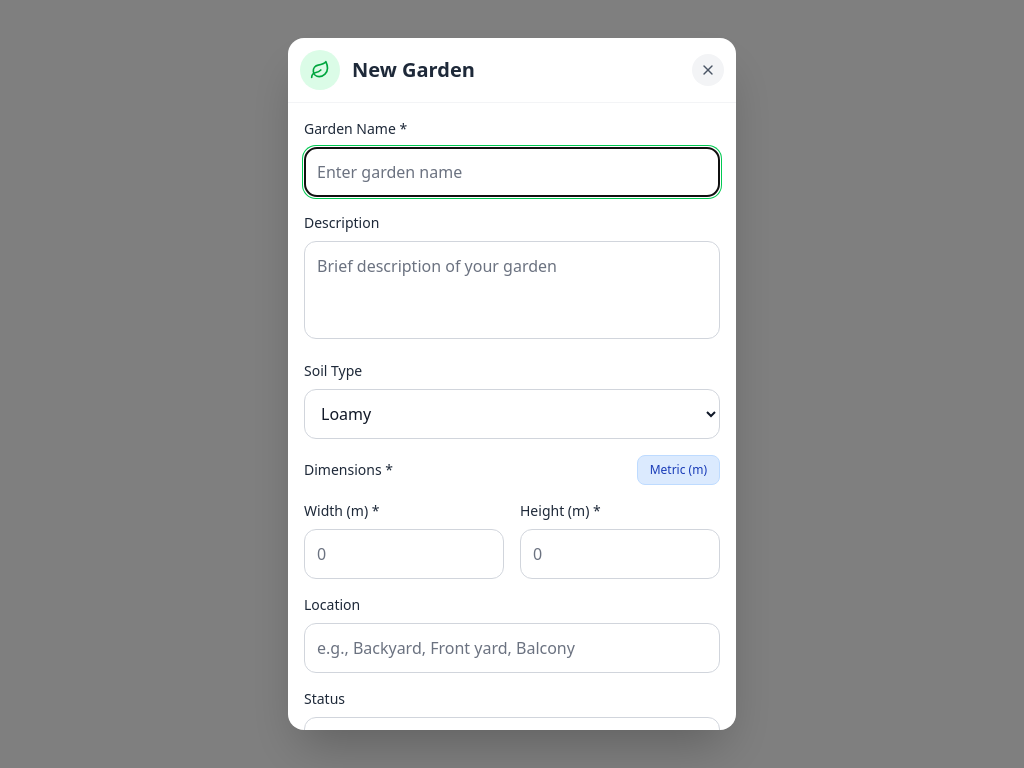
Test: GardenForm validation › shows metric range messages using m for dimensions above the allowed range
The image size is (1024, 768).
Type "Kitchen Garden" into the field with placeholder "Enter garden name" at (512, 172), box [304,147,720,197]
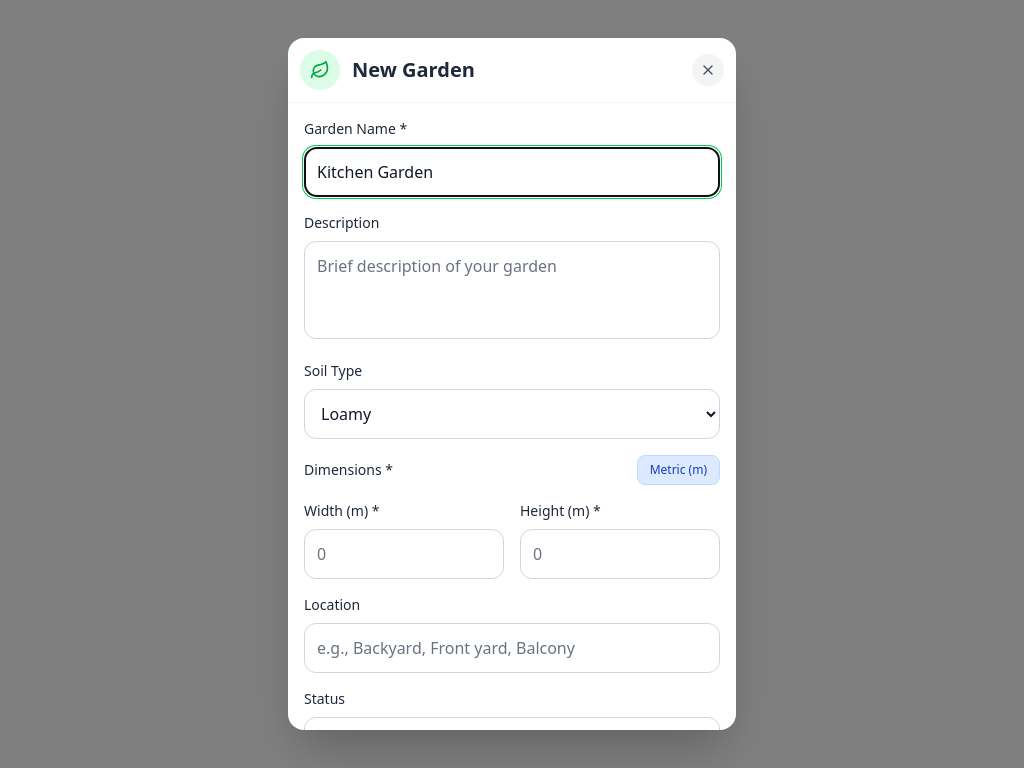
Type "101" into the number field labelled "Width (m) *" at (404, 554), box [304,529,504,579]
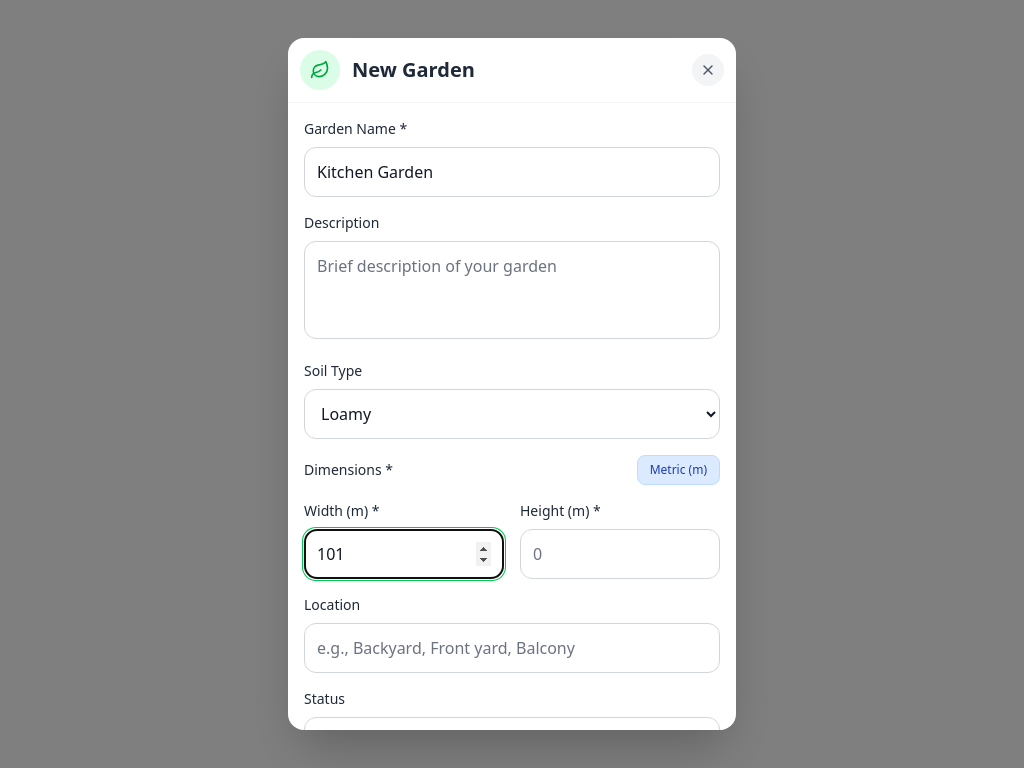
Type "101" into the number field labelled "Height (m) *" at (620, 554), box [520,529,720,579]
(page scrolled)
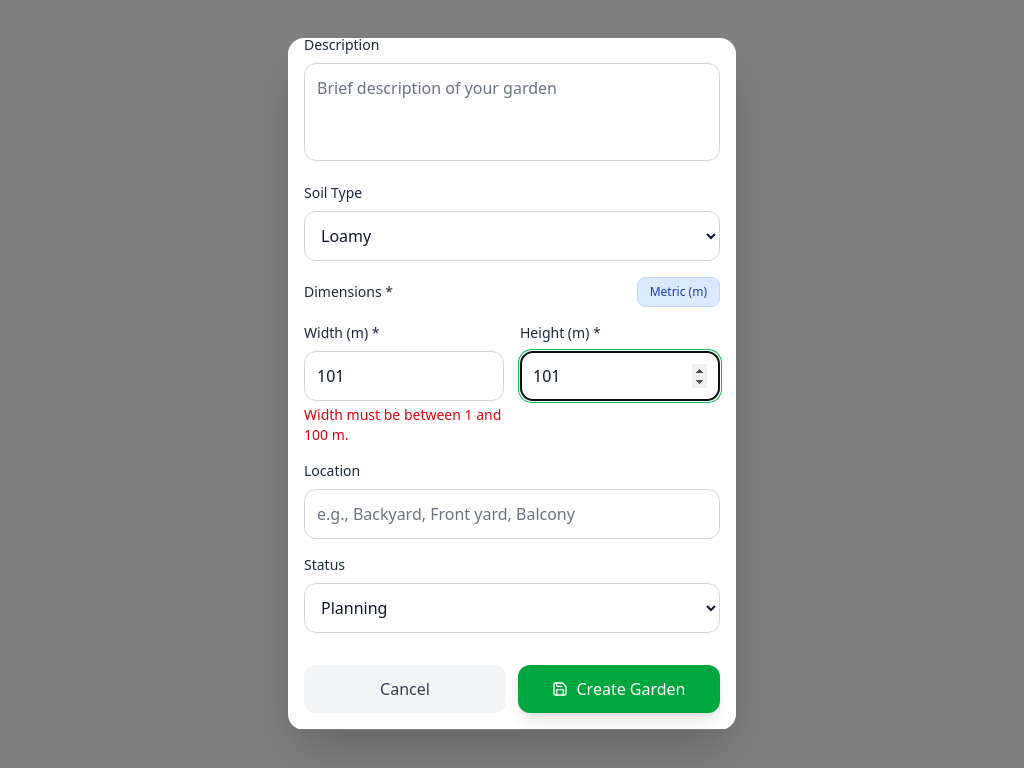
Click the button "Create Garden" at (619, 689), box [518,665,720,713]
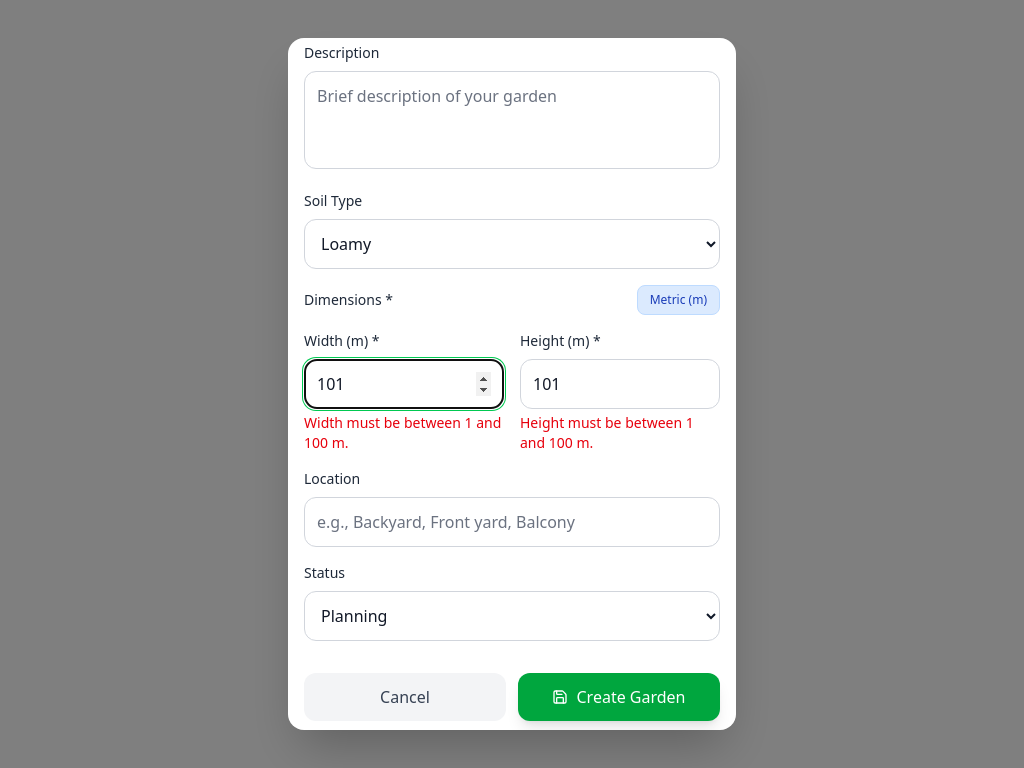
Expected: the text "Width must be between 1 and 100 m." is shown, [304,413,504,453]
Expected: the text "Height must be between 1 and 100 m." is shown, [520,413,720,453]
